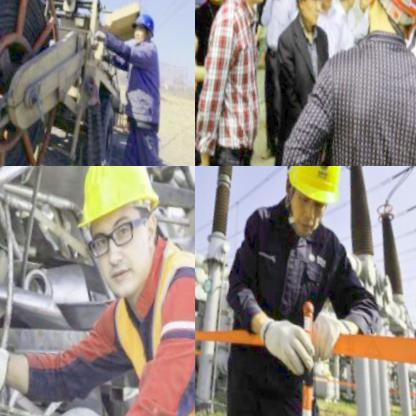helmet: (42, 166, 191, 318), (267, 166, 360, 246), (355, 0, 416, 44), (122, 9, 157, 47), (278, 0, 329, 24), (349, 0, 376, 15), (326, 0, 359, 12)
